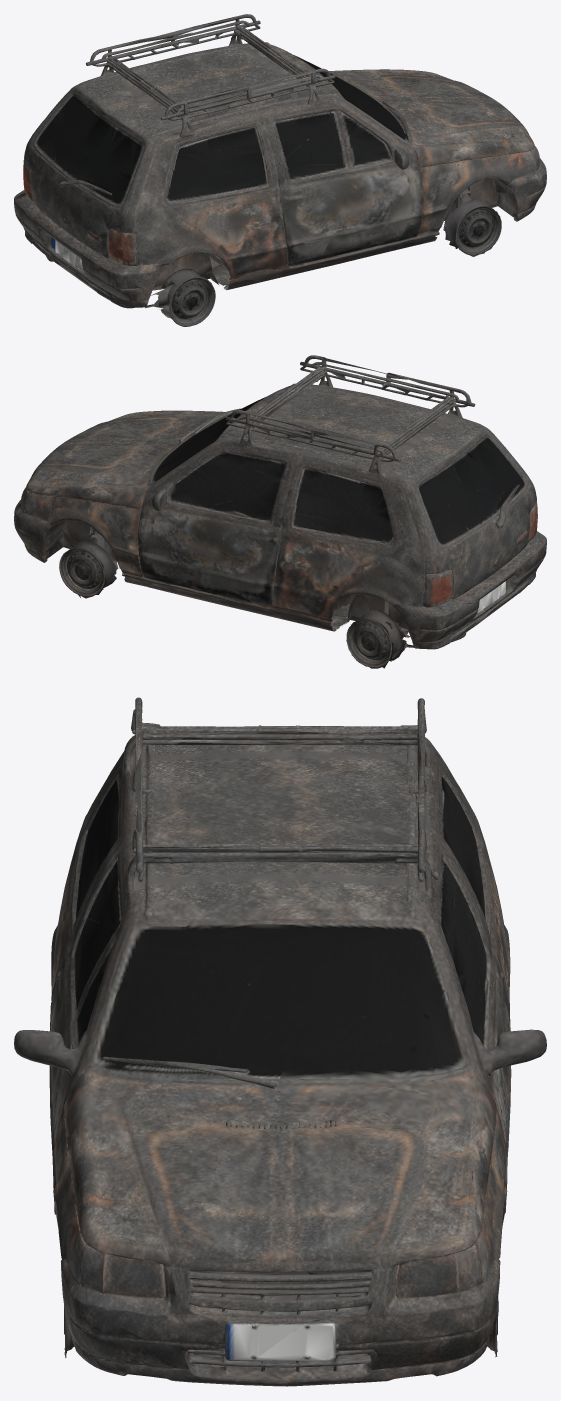
Rendered from furgaozinho-da-firma-queimado__01a16dcf.glb.
3 renders of one model, top to bottom at view 1: azimuth 30°, elevation 25°; view 2: azimuth 150°, elevation 25°; view 3: azimuth 270°, elevation 25°, orthographic. The views are drawn at different scales.
Visible parts, largest first — view 1: furgaozinho-da-firma-queimado; view 2: furgaozinho-da-firma-queimado; view 3: furgaozinho-da-firma-queimado.
Part boxes in pixels (x1,y1,x2,y2): furgaozinho-da-firma-queimado: (14,14,546,326); furgaozinho-da-firma-queimado: (14,355,546,668); furgaozinho-da-firma-queimado: (14,697,546,1386).
Size of the model in its own units: 3.69 by 1.62 by 1.98.
Materials: 1 (1 with a texture image).
